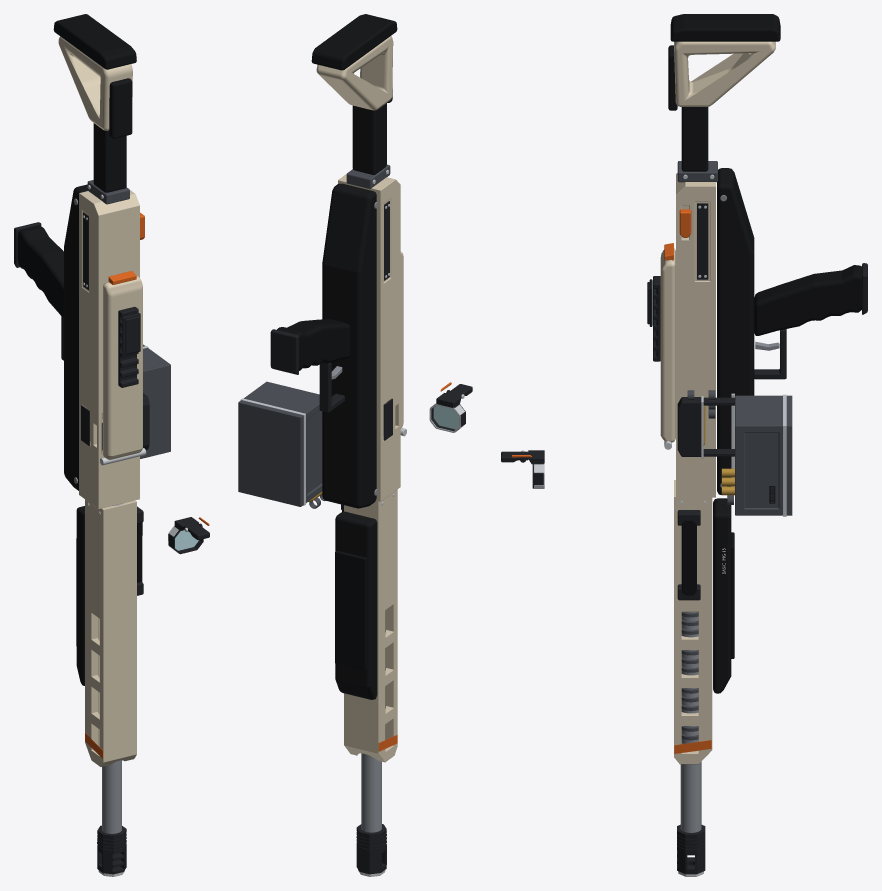
Rendered from BASIC-15-v2.1.fbx.
3 renders of one model, left to right at view 1: azimuth 30°, elevation 25°; view 2: azimuth 150°, elevation 25°; view 3: azimuth 270°, elevation 25°, orthographic. The views are drawn at different scales.
Parts seen in each view (by area): view 1: shroud, receiver, feed_cover, lower, stock, grip, butt_pad, ammo_box, stock_spine, handguard, barrel, cheek_rest (+5 smaller); view 2: lower, ammo_box, shroud, receiver, handguard, handguard_grip, stock, butt_pad, grip, stock_spine, barrel, muzzle (+5 smaller); view 3: receiver, lower, shroud, ammo_box, grip, stock, handguard, butt_pad, feed_cover, barrel, stock_spine, feed_mouth (+4 smaller).
Boxes of the visible parts, box(x1,y1,x2,y2) form: shroud: box(85, 499, 136, 766); receiver: box(79, 190, 139, 509); feed_cover: box(103, 276, 142, 459); lower: box(64, 184, 87, 490); stock: box(58, 36, 132, 130); grip: box(17, 226, 63, 319); butt_pad: box(53, 14, 136, 69); ammo_box: box(140, 344, 170, 458); stock_spine: box(93, 123, 126, 192); handguard: box(76, 506, 84, 685); barrel: box(102, 760, 121, 833); cheek_rest: box(109, 78, 132, 138); lower: box(322, 183, 376, 508); ammo_box: box(238, 381, 322, 506); shroud: box(344, 489, 397, 762); receiver: box(338, 174, 400, 501); handguard: box(335, 511, 377, 699); handguard_grip: box(335, 550, 367, 670); stock: box(316, 36, 393, 110); butt_pad: box(311, 14, 397, 70); grip: box(277, 319, 350, 370); stock_spine: box(352, 103, 386, 174); barrel: box(361, 753, 381, 832); muzzle: box(356, 824, 386, 874); receiver: box(676, 173, 715, 497); lower: box(717, 168, 754, 494); shroud: box(674, 480, 712, 764); ammo_box: box(735, 395, 792, 515); grip: box(754, 265, 861, 335); stock: box(674, 41, 775, 106); handguard: box(713, 498, 731, 693); butt_pad: box(670, 14, 780, 41); feed_cover: box(660, 248, 675, 442); barrel: box(680, 612, 701, 832); stock_spine: box(681, 107, 708, 171); feed_mouth: box(677, 397, 701, 456).
Size of the model in its own units: 0.1286 by 0.983 by 0.384.
